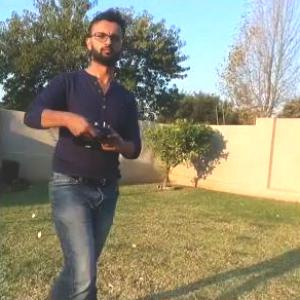follow: (17, 5, 144, 299)
